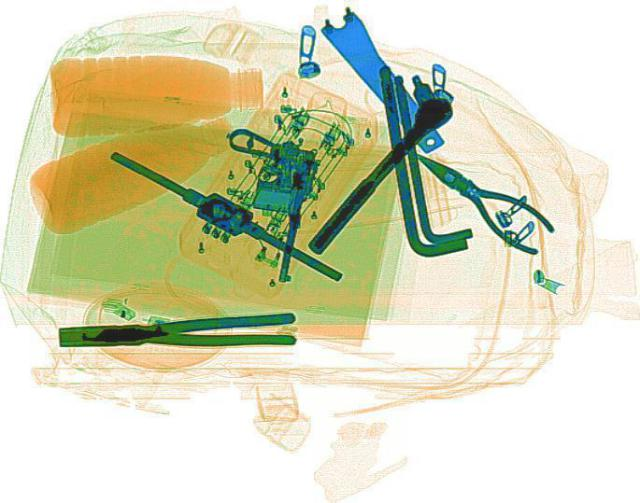Gun: (198, 124, 320, 281)
Pliers: (398, 140, 566, 257), (57, 313, 293, 350)
